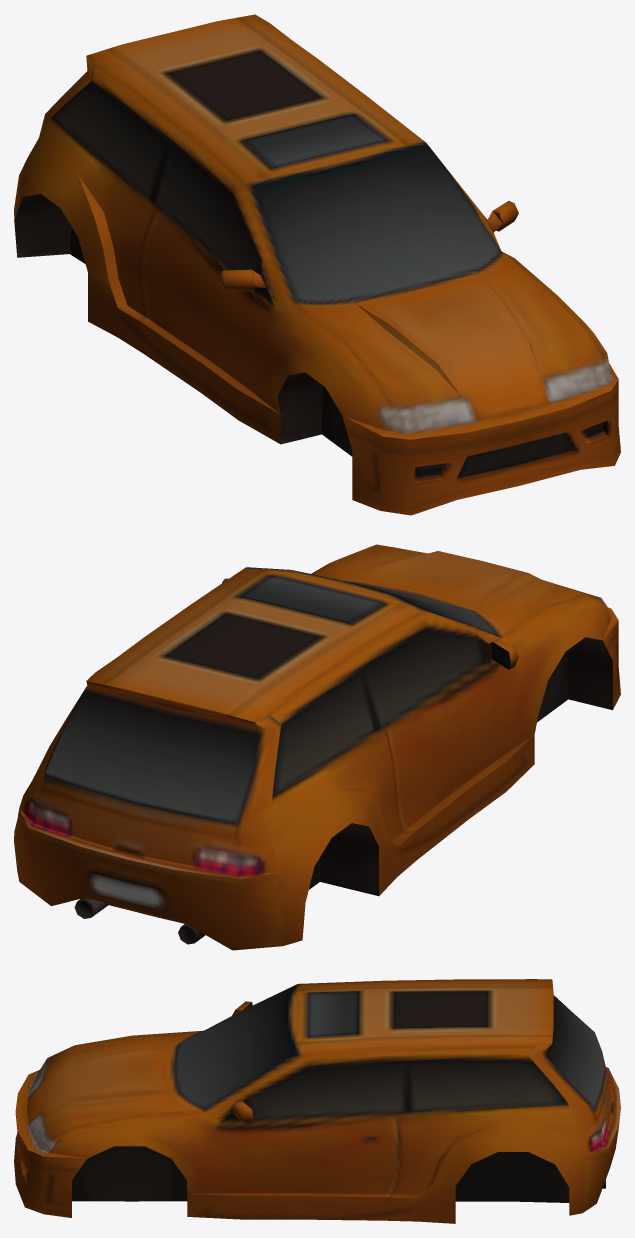
File: AICar1.fbx
3 views of the same model, one above another, from view 1: azimuth 30°, elevation 25°; view 2: azimuth 150°, elevation 25°; view 3: azimuth 270°, elevation 25° (orthographic). The views are drawn at different scales.
Parts seen in each view (by area): view 1: AICar1; view 2: AICar1; view 3: AICar1.
Part boxes in pixels (left/top/right/bottom): AICar1: left=14, top=14, right=620, bottom=515; AICar1: left=14, top=544, right=620, bottom=950; AICar1: left=14, top=979, right=620, bottom=1223.
Bounding box in the file's own units: 171 × 116 × 397.
